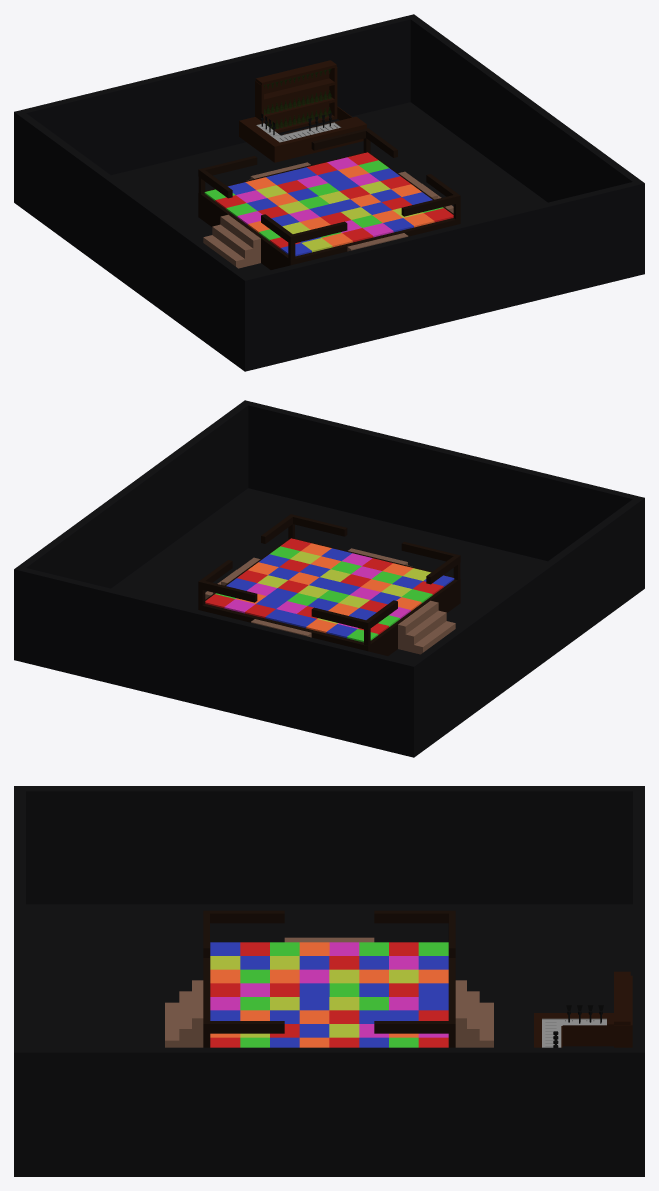
File: ClubFin.FBX
3 renders of one model, top to bottom at view 1: azimuth 30°, elevation 25°; view 2: azimuth 150°, elevation 25°; view 3: azimuth 270°, elevation 25°, orthographic. The views are drawn at different scales.
Visible parts, largest first — view 1: Box001, Plane001, Box003, Box002, Box008, Box009 (×2), Line004, Box012, Box011; view 2: Box001, Plane001, Box003, Box002, Line004; view 3: Box001, Plane001, Box003, Box008, Line001, Line003, Box009, Box002.
Part boxes in pixels (x1=…): Box001: x1=14, y1=14, x2=644, y2=371; Plane001: x1=204, y1=152, x2=453, y2=256; Box003: x1=198, y1=128, x2=460, y2=243; Box002: x1=198, y1=152, x2=460, y2=269; Box008: x1=239, y1=116, x2=366, y2=162; Box009 (×2): x1=255, y1=60, x2=336, y2=126; Line004: x1=203, y1=214, x2=260, y2=268; Box012: x1=262, y1=78, x2=336, y2=102; Box011: x1=263, y1=96, x2=336, y2=119; Box001: x1=14, y1=400, x2=644, y2=757; Plane001: x1=205, y1=538, x2=454, y2=642; Box003: x1=198, y1=514, x2=460, y2=629; Box002: x1=198, y1=538, x2=460, y2=655; Line004: x1=398, y1=600, x2=455, y2=654; Box001: x1=14, y1=786, x2=644, y2=1176; Plane001: x1=210, y1=942, x2=448, y2=1047; Box003: x1=203, y1=910, x2=455, y2=1033; Box008: x1=534, y1=1013, x2=613, y2=1047; Line001: x1=165, y1=980, x2=203, y2=1047; Line003: x1=455, y1=980, x2=493, y2=1047; Box009: x1=614, y1=971, x2=630, y2=1025; Box002: x1=203, y1=942, x2=455, y2=1047.
Size of the model in its own units: 15000 by 3275 by 15000.
